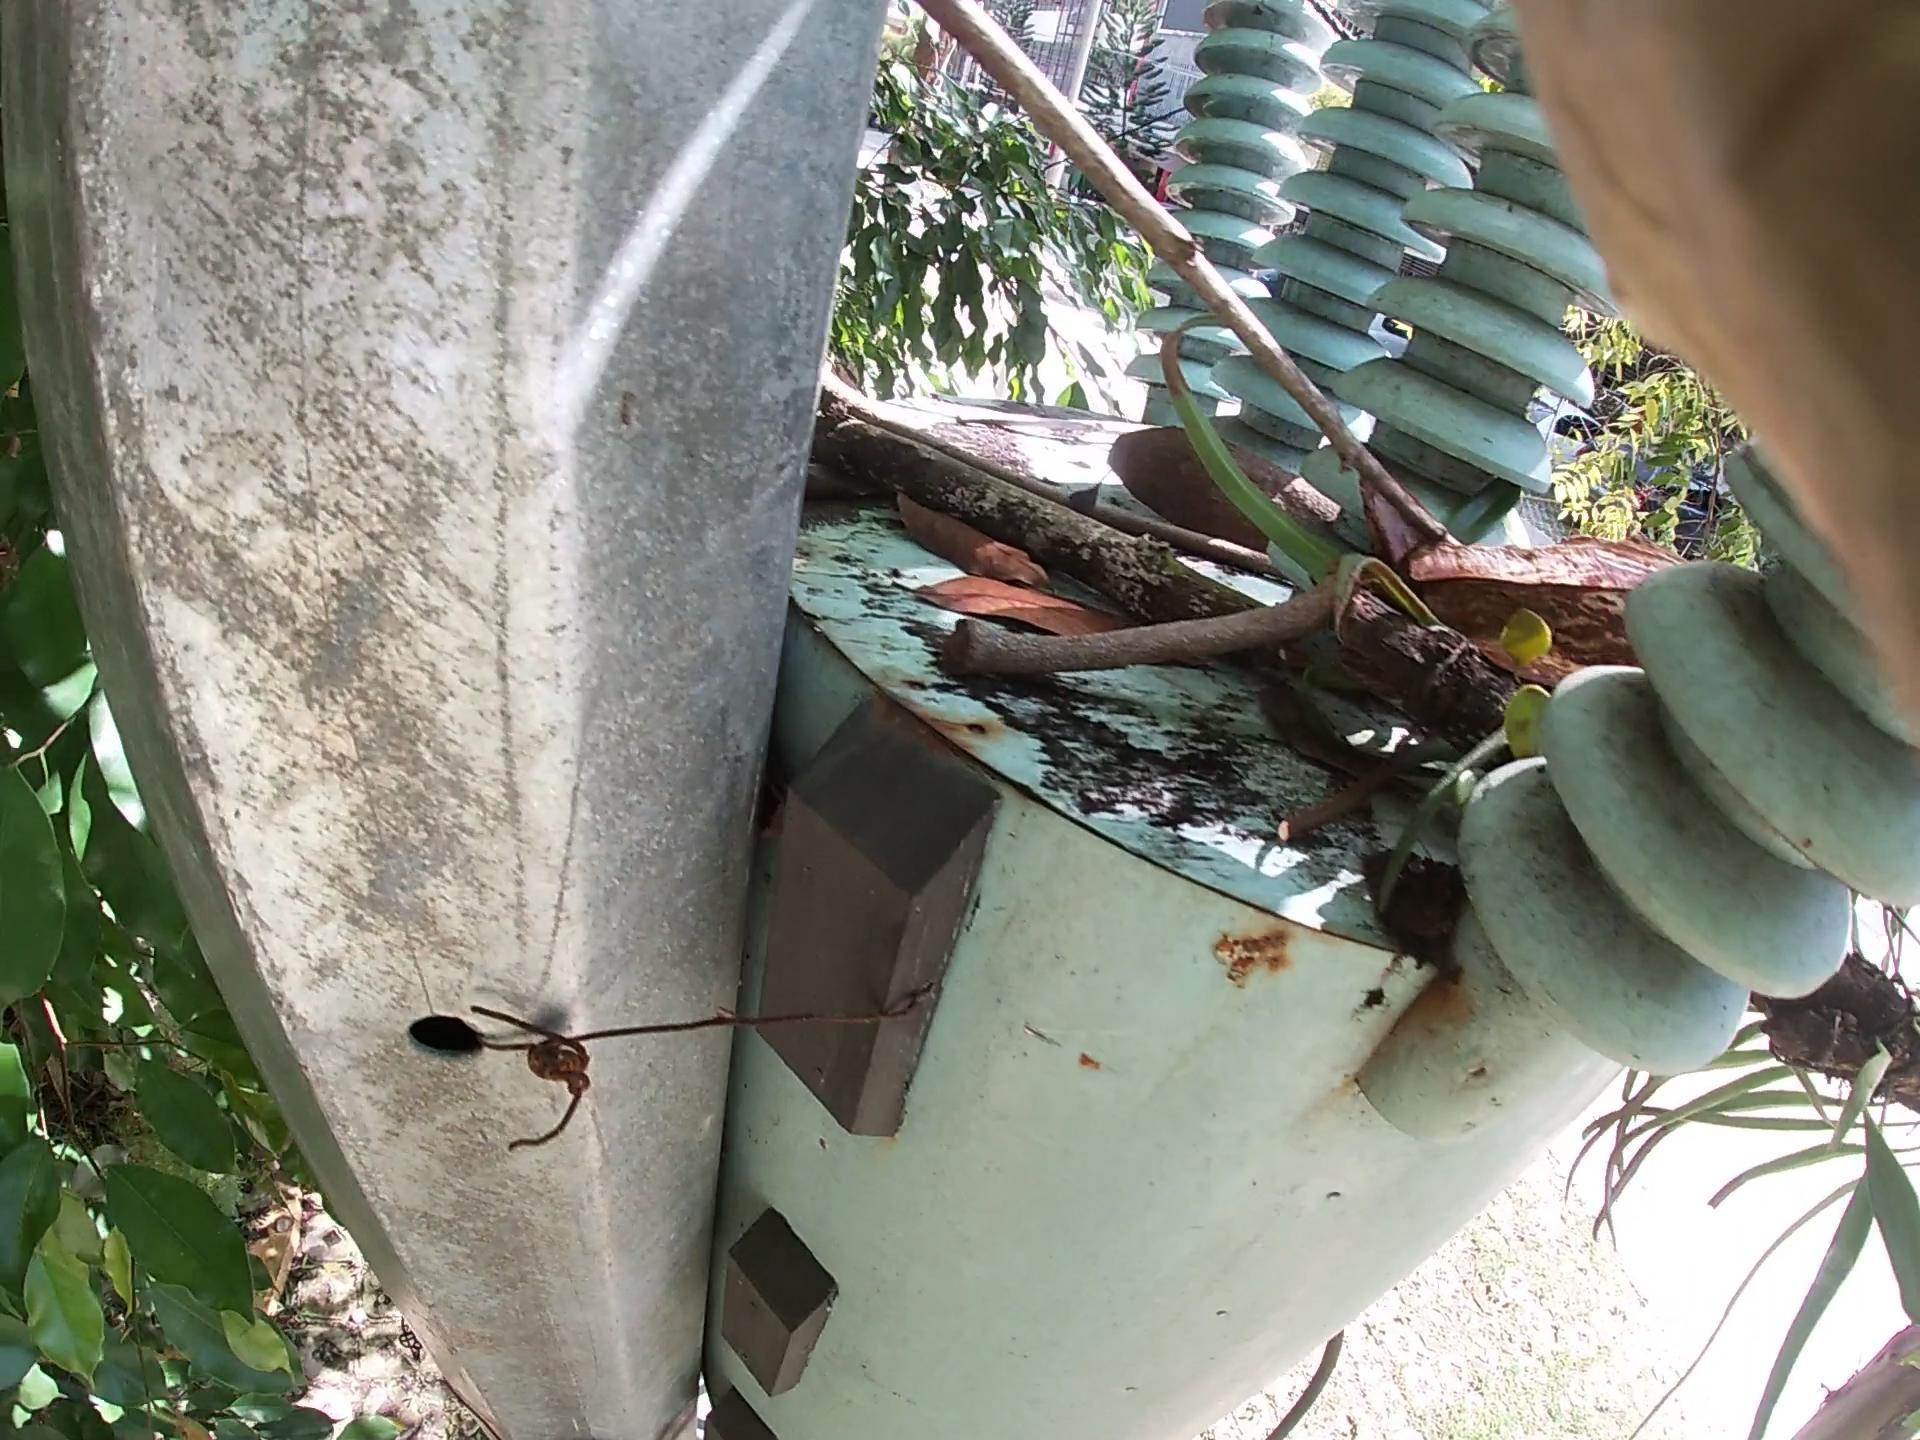branch with leaves: (819, 396, 1900, 1101)
leaf: (934, 469, 1008, 672)
mahogany fruit: (1350, 457, 1719, 722), (1089, 374, 1364, 613)
tree branch: (999, 57, 1438, 504), (783, 371, 1373, 610), (952, 573, 1528, 681)
